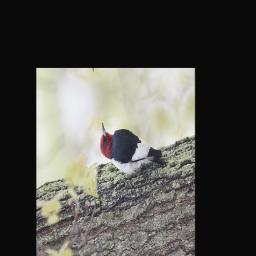Woodpecker: (96, 102, 165, 187)
